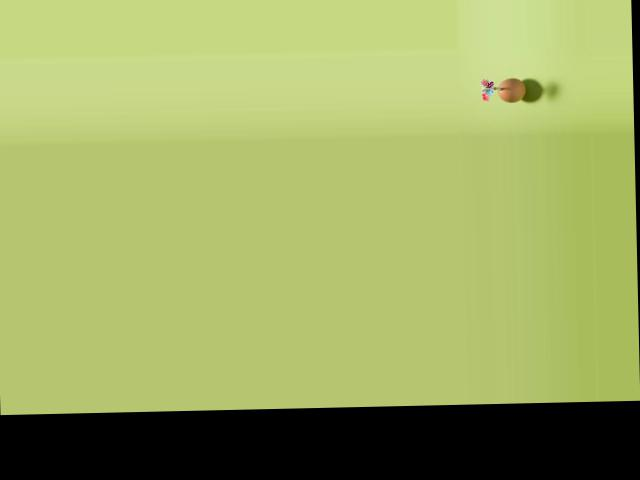egg: (497, 77, 526, 102)
